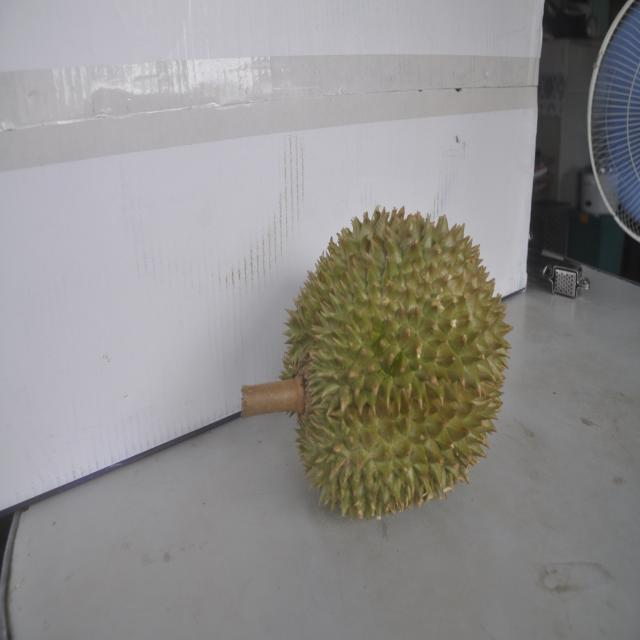mature: (293, 200, 509, 516)
